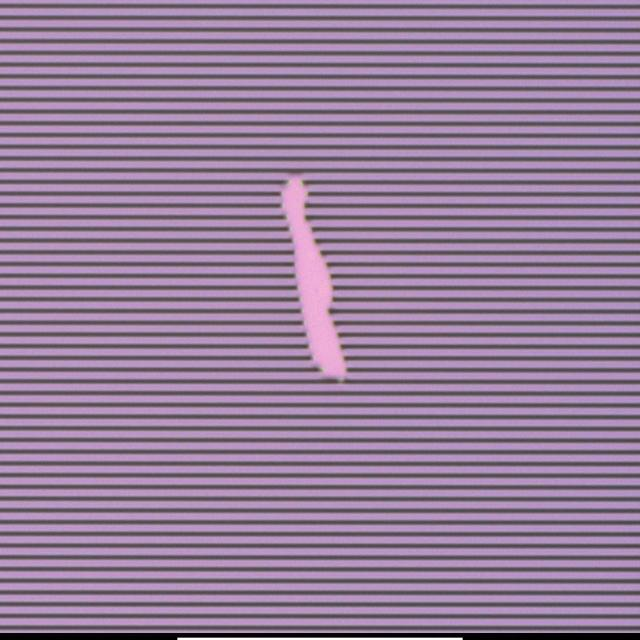03_intrusion: (278, 170, 348, 381)
